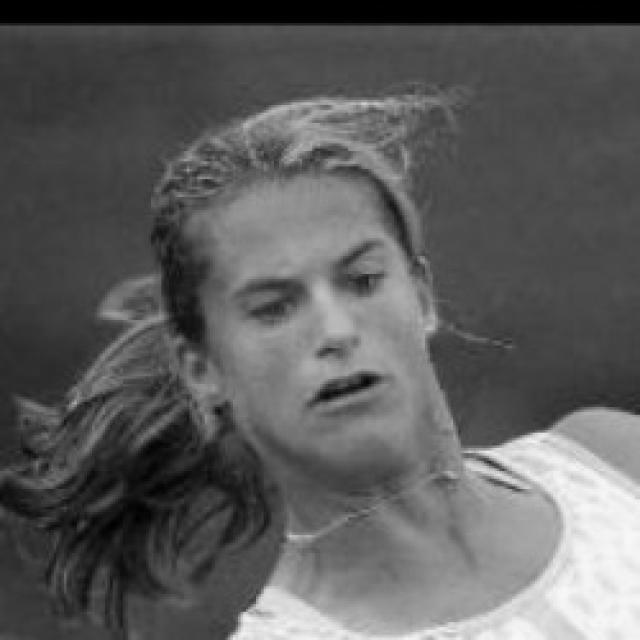real: (194, 180, 424, 468), (242, 262, 390, 324)
